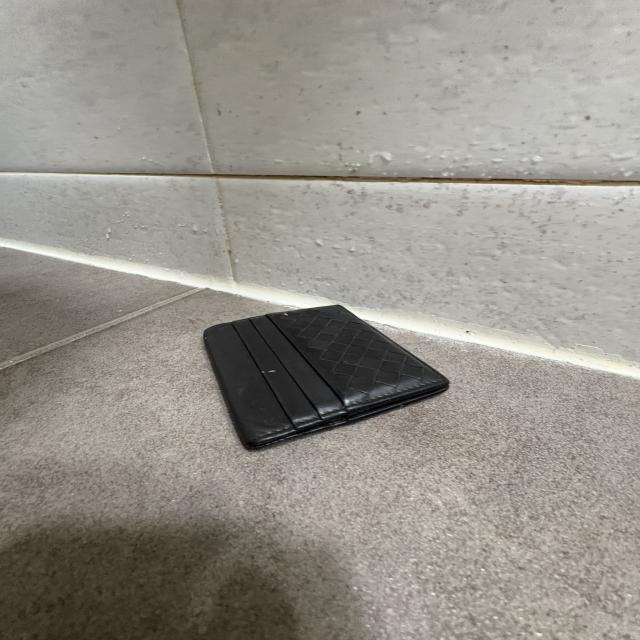wallet: (201, 303, 452, 451)
